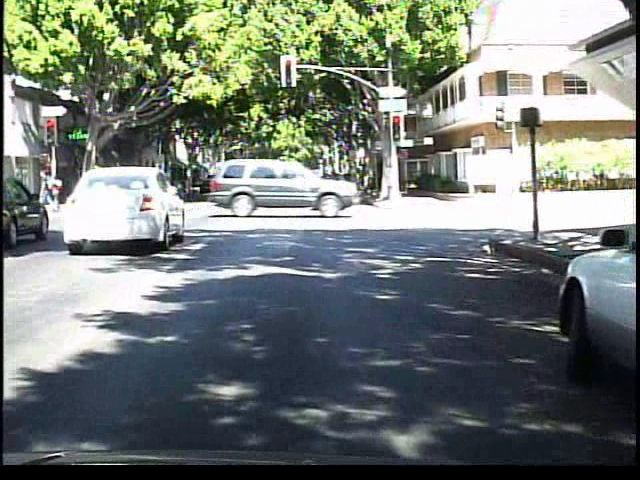person: (37, 165, 71, 212)
